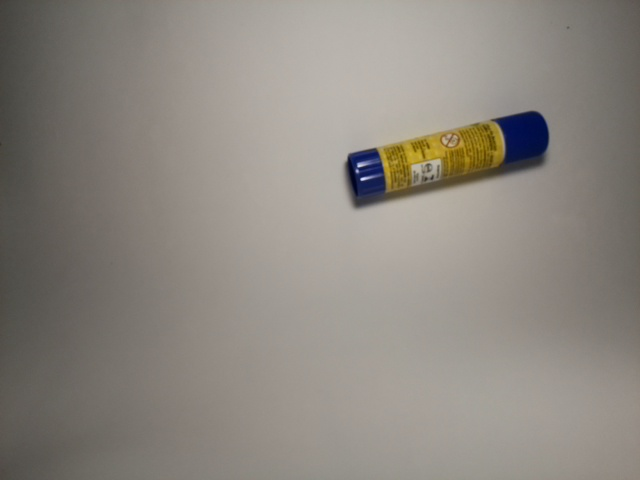Cola: (315, 106, 562, 209)
